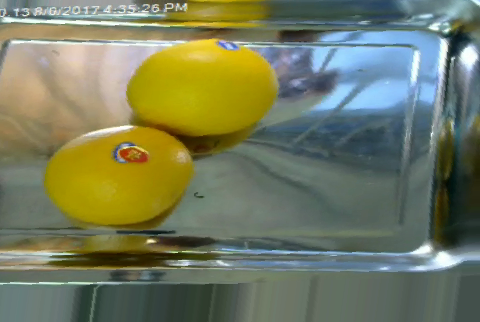Orange: (45, 124, 192, 226), (127, 38, 279, 135)
